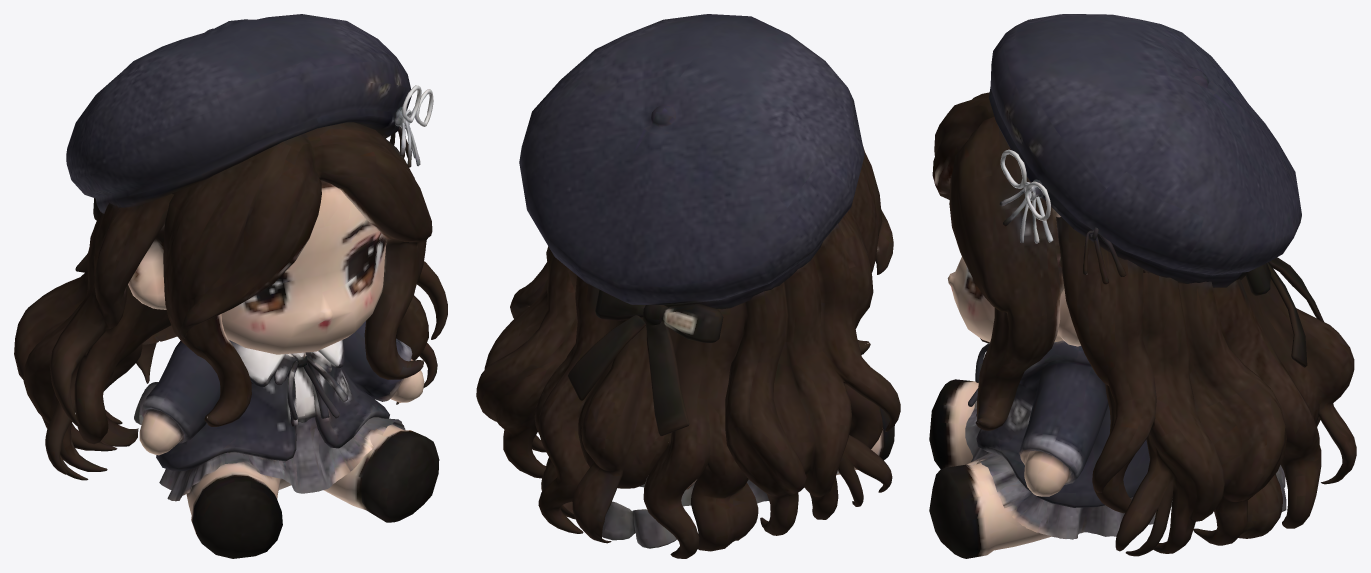
File: plush-doll-beret.glb
3 views of the same model, side by side, from view 1: azimuth 30°, elevation 25°; view 2: azimuth 150°, elevation 25°; view 3: azimuth 270°, elevation 25° (orthographic). The views are drawn at different scales.
Parts seen in each view (by area): view 1: Plush_beret; view 2: Plush_beret; view 3: Plush_beret.
Boxes of the visible parts, box(x1,y1,x2,y2) form: Plush_beret: box(14, 14, 447, 558); Plush_beret: box(476, 14, 900, 558); Plush_beret: box(929, 14, 1356, 558).
Size of the model in its own units: 0.8843 by 1 by 0.8066.
Materials: 1 (1 with a texture image).
